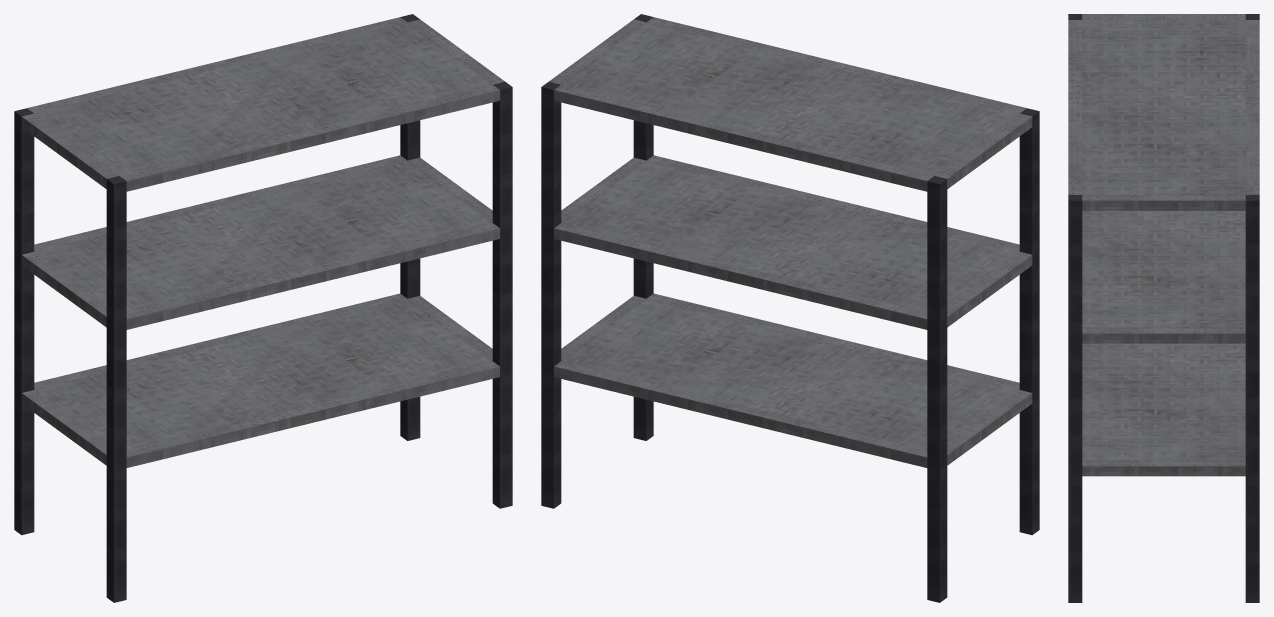
File: Shelving.glb
3 renders of one model, left to right at view 1: azimuth 30°, elevation 25°; view 2: azimuth 150°, elevation 25°; view 3: azimuth 270°, elevation 25°, orthographic. The views are drawn at different scales.
Visible parts, largest first — view 1: Plane-col, Cube-col; view 2: Plane-col, Cube-col; view 3: Plane-col, Cube-col.
Part boxes in pixels (x1,y1,x2,y2): Plane-col: (21,17,504,467); Cube-col: (14,14,512,602); Plane-col: (549,17,1032,467); Cube-col: (541,14,1039,602); Plane-col: (1068,14,1259,476); Cube-col: (1068,14,1259,602).
Bounding box in the file's own units: 7.43 × 7.46 × 3.22.
2 materials, 2 textured.
